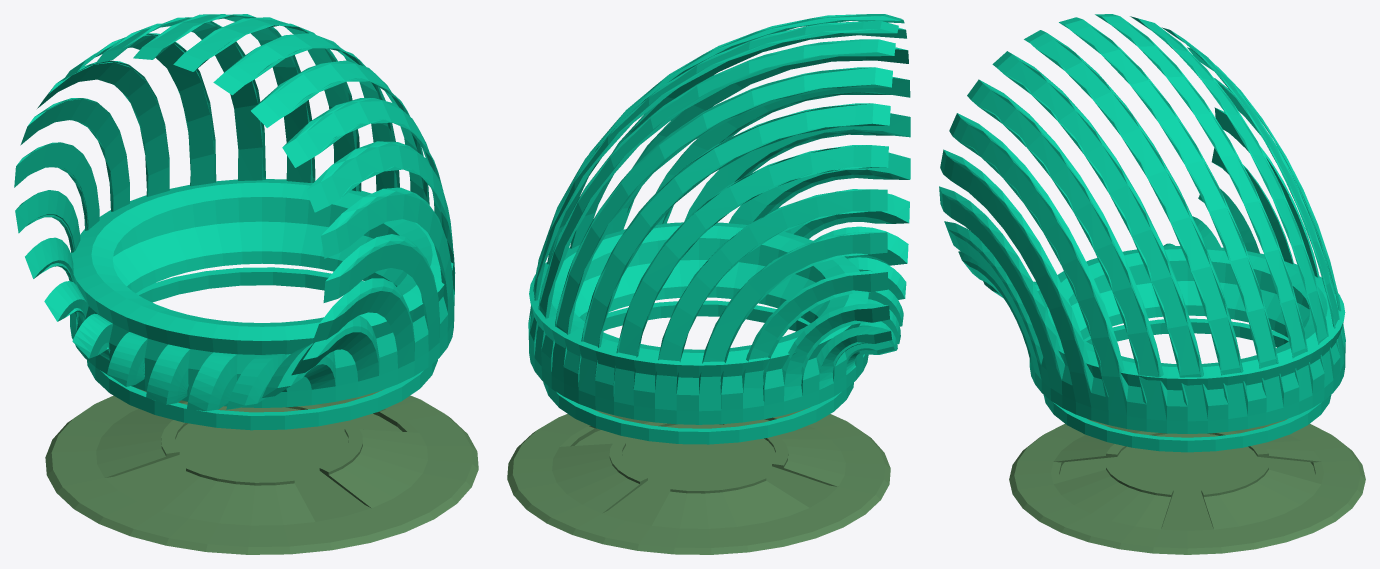
Rendered from FreeStore01.dae.
The picture shows the model from 3 angles, left to right: view 1: azimuth 30°, elevation 25°; view 2: azimuth 150°, elevation 25°; view 3: azimuth 270°, elevation 25°; orthographic projection. The views are drawn at different scales.
Visible parts, largest first — view 1: Torus, Cylinder, Cylinder_002; view 2: Torus, Cylinder, Cylinder_002; view 3: Torus, Cylinder, Cylinder_002.
Part boxes in pixels (x1,y1,x2,y2): Torus: (14,14,455,411); Cylinder: (45,388,478,554); Cylinder_002: (87,267,437,430); Torus: (528,14,910,424); Cylinder: (507,407,890,554); Cylinder_002: (543,300,853,444); Torus: (939,14,1345,433); Cylinder: (1009,419,1365,554); Cylinder_002: (1043,318,1331,452).
Size of the model in its own units: 7.19 by 7.73 by 8.15.
